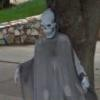Statue: (20, 7, 77, 94)
